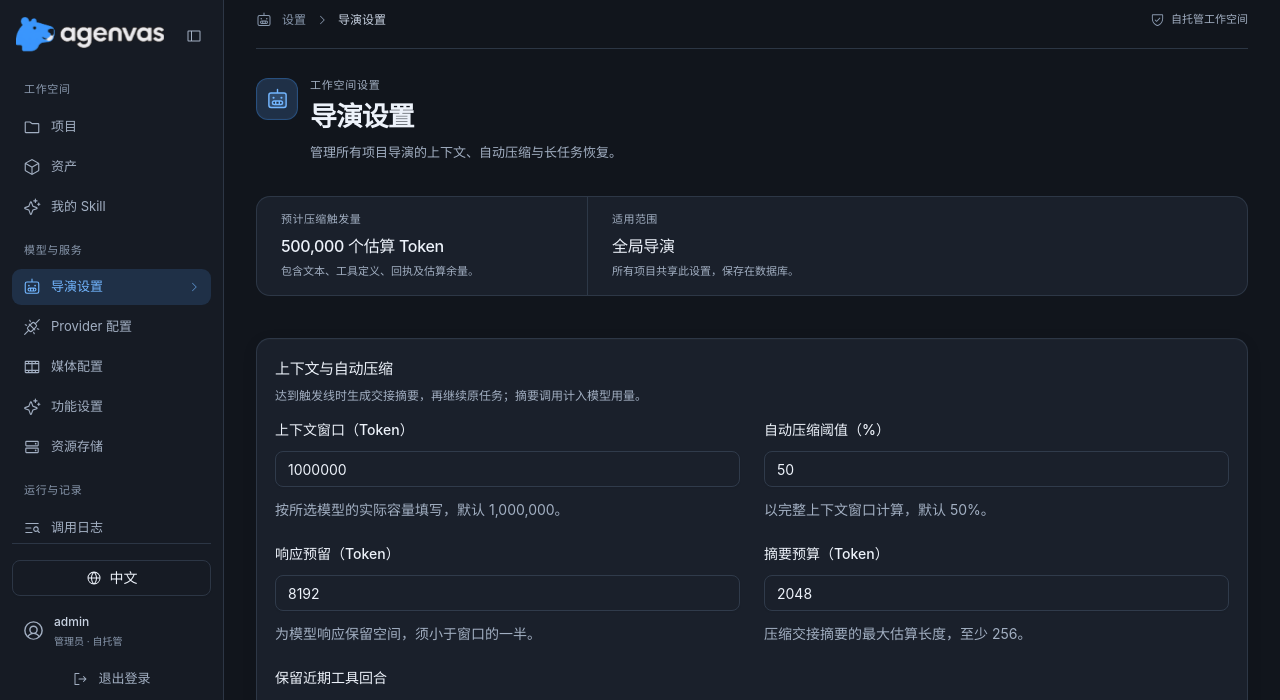
Test: DirectorSettingsPage › retains the draft and original version after a failed save and allows retry
Replace the text in the number field labelled "上下文窗口（Token）" with "750000" at (508, 469), box [275,451,740,487]
(page scrolled)
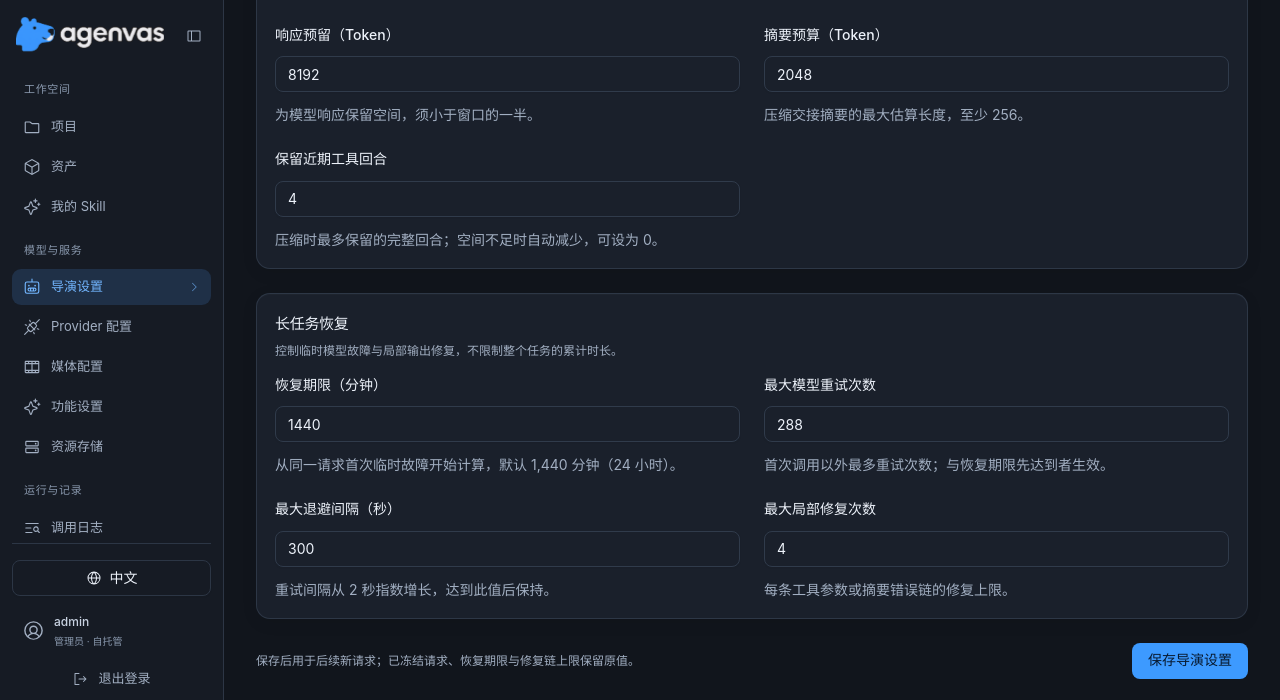
Click the button "保存导演设置" at (1190, 660), box [1132,642,1248,678]
(page scrolled)
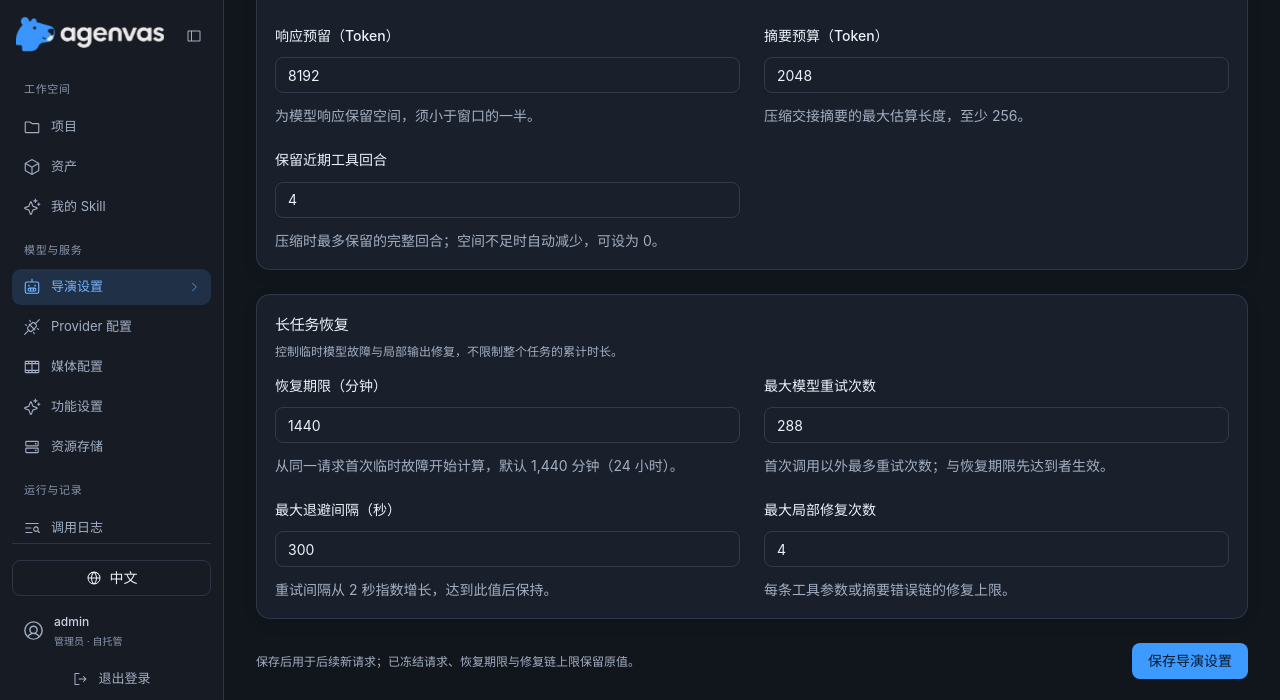
Click the button "保存导演设置" at (1190, 662), box [1132,644,1248,680]
(page scrolled)
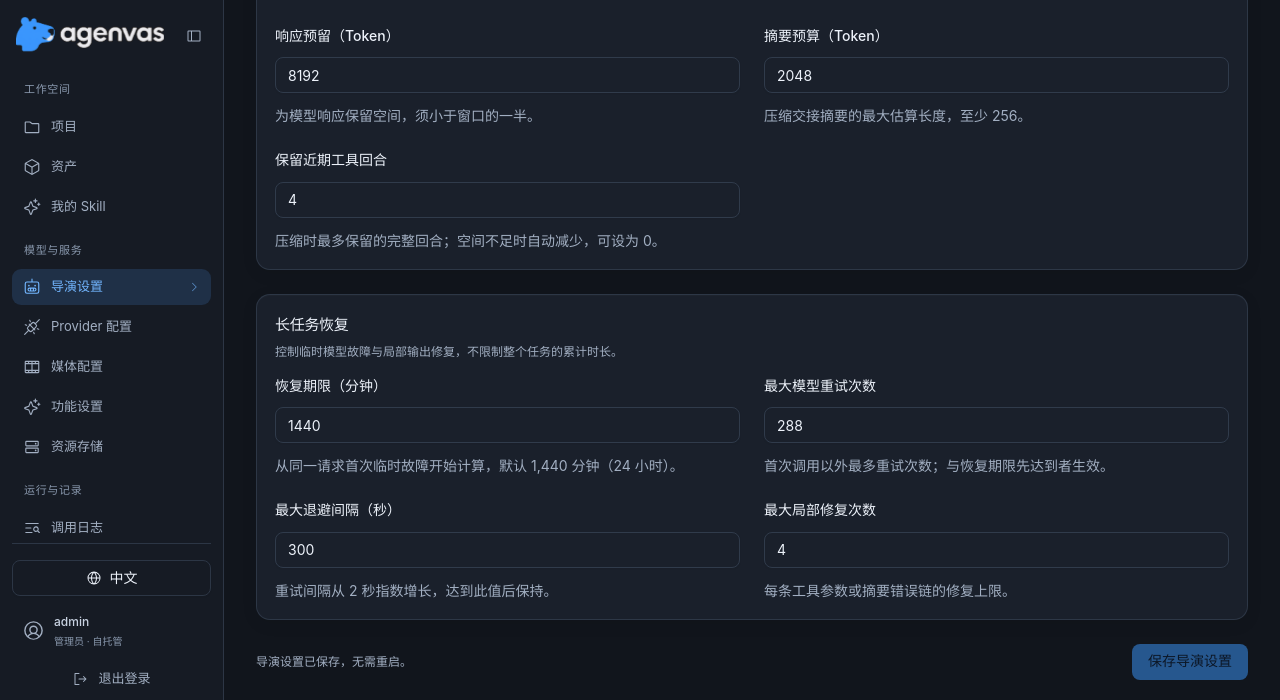
Expected: the text "导演设置已保存，无需重启。" is shown, [256,654,412,669]
